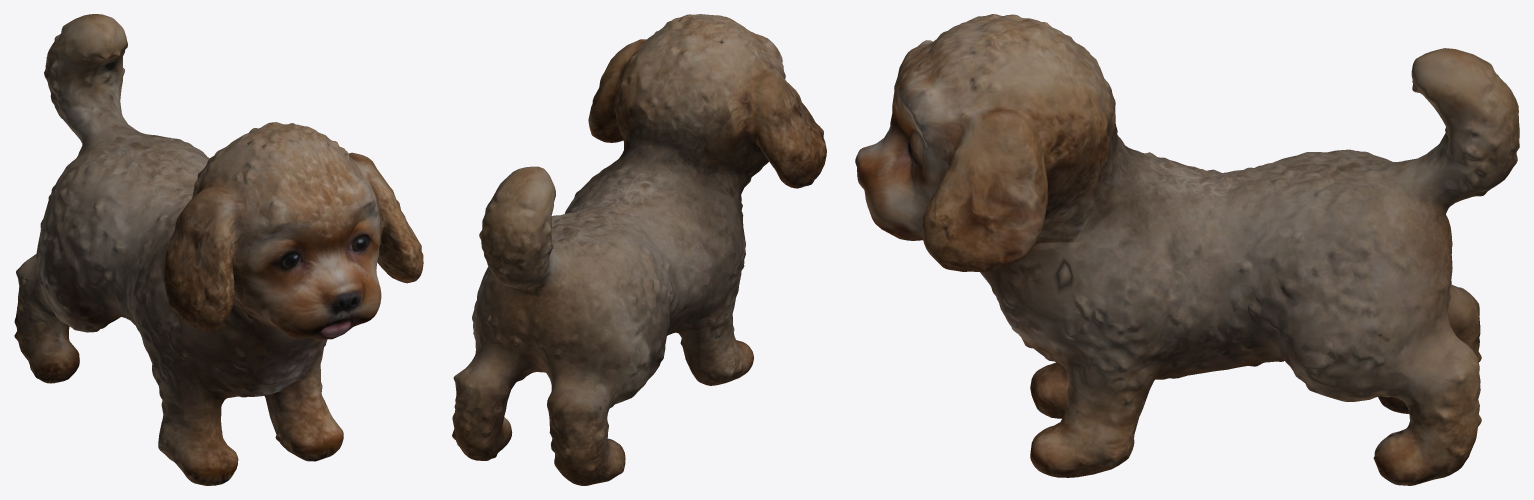
File: poodle.glb
The picture shows the model from 3 angles, left to right: view 1: azimuth 30°, elevation 25°; view 2: azimuth 150°, elevation 25°; view 3: azimuth 270°, elevation 25°; orthographic projection. The views are drawn at different scales.
Visible parts, largest first — view 1: einen_kleinen_lockige_0307192654_texture.obj; view 2: einen_kleinen_lockige_0307192654_texture.obj; view 3: einen_kleinen_lockige_0307192654_texture.obj.
Boxes of the visible parts, x1,y1,x2,y2 form: einen_kleinen_lockige_0307192654_texture.obj: [14, 14, 423, 485]; einen_kleinen_lockige_0307192654_texture.obj: [452, 14, 826, 485]; einen_kleinen_lockige_0307192654_texture.obj: [855, 14, 1519, 485].
Size of the model in its own units: 0.9492 by 1.4 by 1.99.
1 material, 1 textured.
